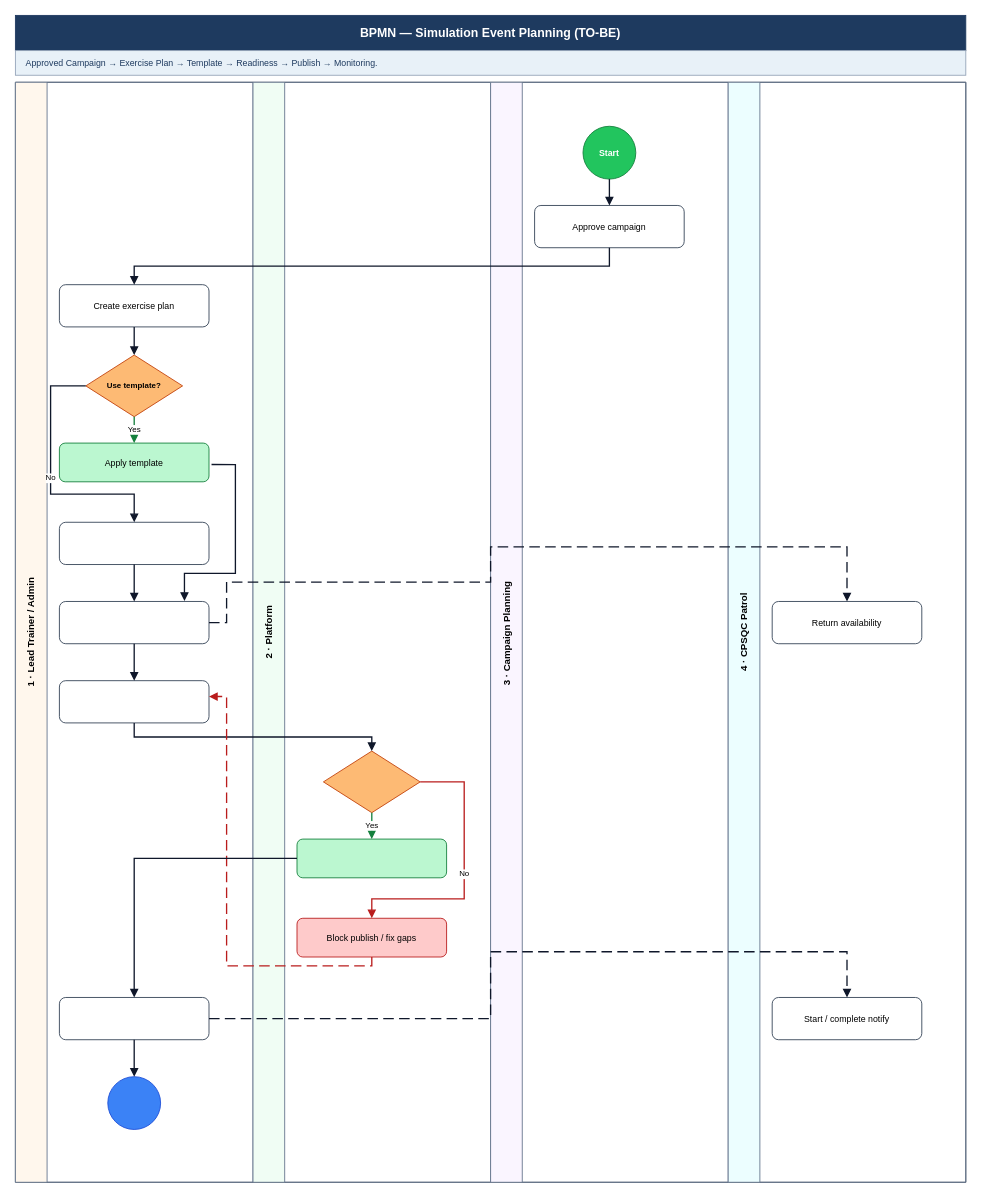
Image size: 981x1198. Some labels were removed from this diagram. Each missing label, with the centre of its shape:
Assign personnel / equipment: (x=134, y=622)
Complete readiness checklist: (x=134, y=701)
Custom plan setup: (x=134, y=543)
End: (x=134, y=1102)
Monitor lifecycle: (x=134, y=1018)
Publish event: (x=371, y=858)
Ready?: (x=371, y=781)
